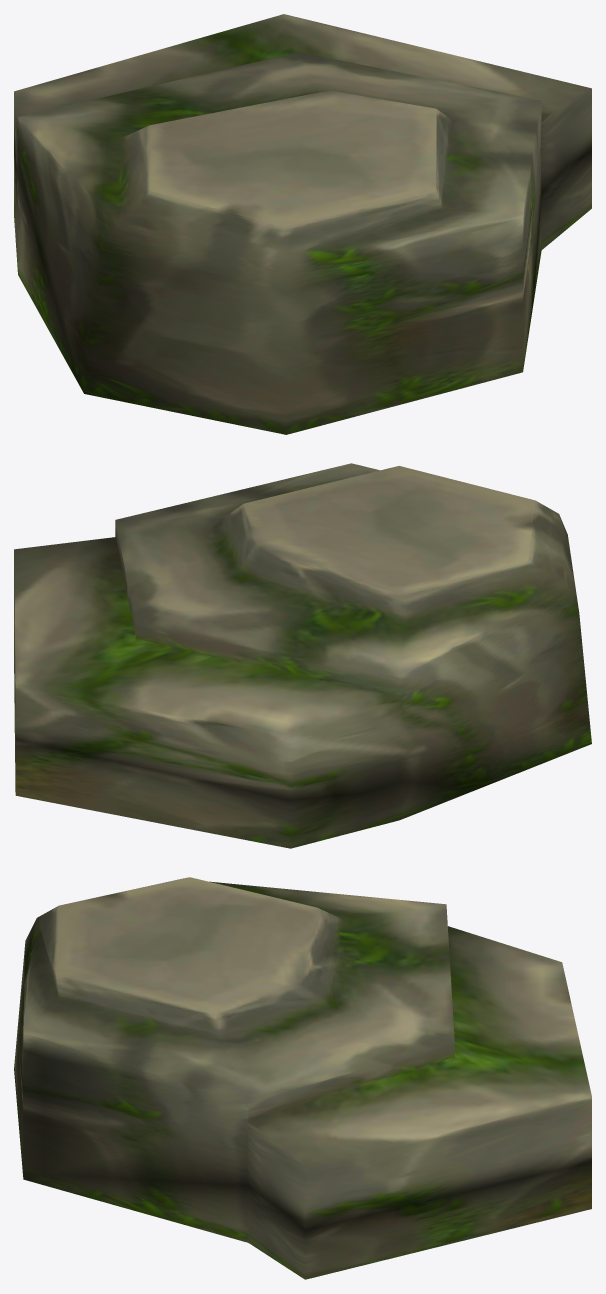
The model's file is RockFormation_4_5 (21).fbx.
The picture shows the model from 3 angles, top to bottom: view 1: azimuth 30°, elevation 25°; view 2: azimuth 150°, elevation 25°; view 3: azimuth 270°, elevation 25°; orthographic projection. The views are drawn at different scales.
Parts seen in each view (by area): view 1: RockFormation_4_5 (21); view 2: RockFormation_4_5 (21); view 3: RockFormation_4_5 (21).
Boxes of the visible parts, box(x1,y1,x2,y2) form: RockFormation_4_5 (21): box(14, 14, 591, 434); RockFormation_4_5 (21): box(14, 463, 591, 848); RockFormation_4_5 (21): box(14, 877, 591, 1279).
Bounding box in the file's own units: 791 × 245 × 741.
